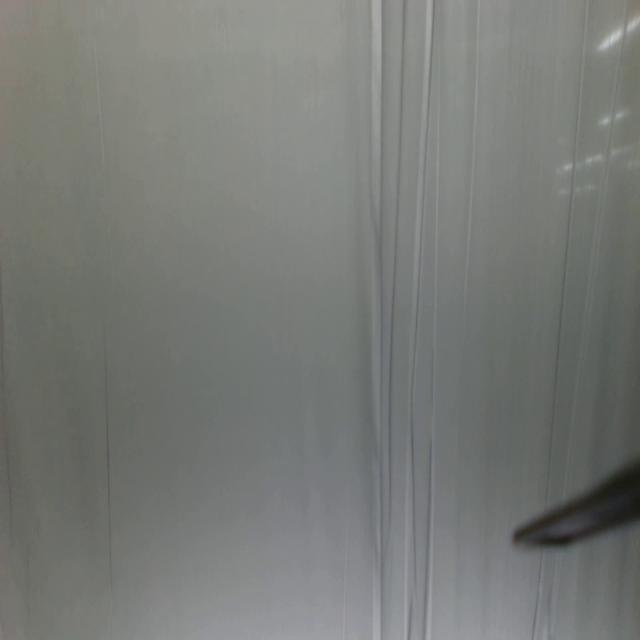crease: (367, 0, 447, 635), (543, 0, 629, 484), (460, 1, 482, 326), (101, 329, 118, 595), (90, 44, 109, 178)
